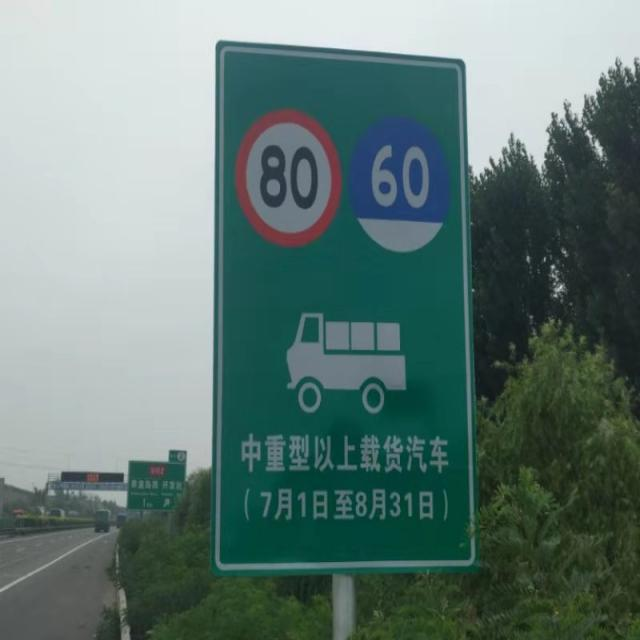speed limit 60: (349, 114, 448, 253)
speed limit 80: (235, 107, 340, 246)
